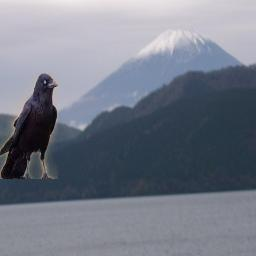Crow: (0, 73, 58, 179)
